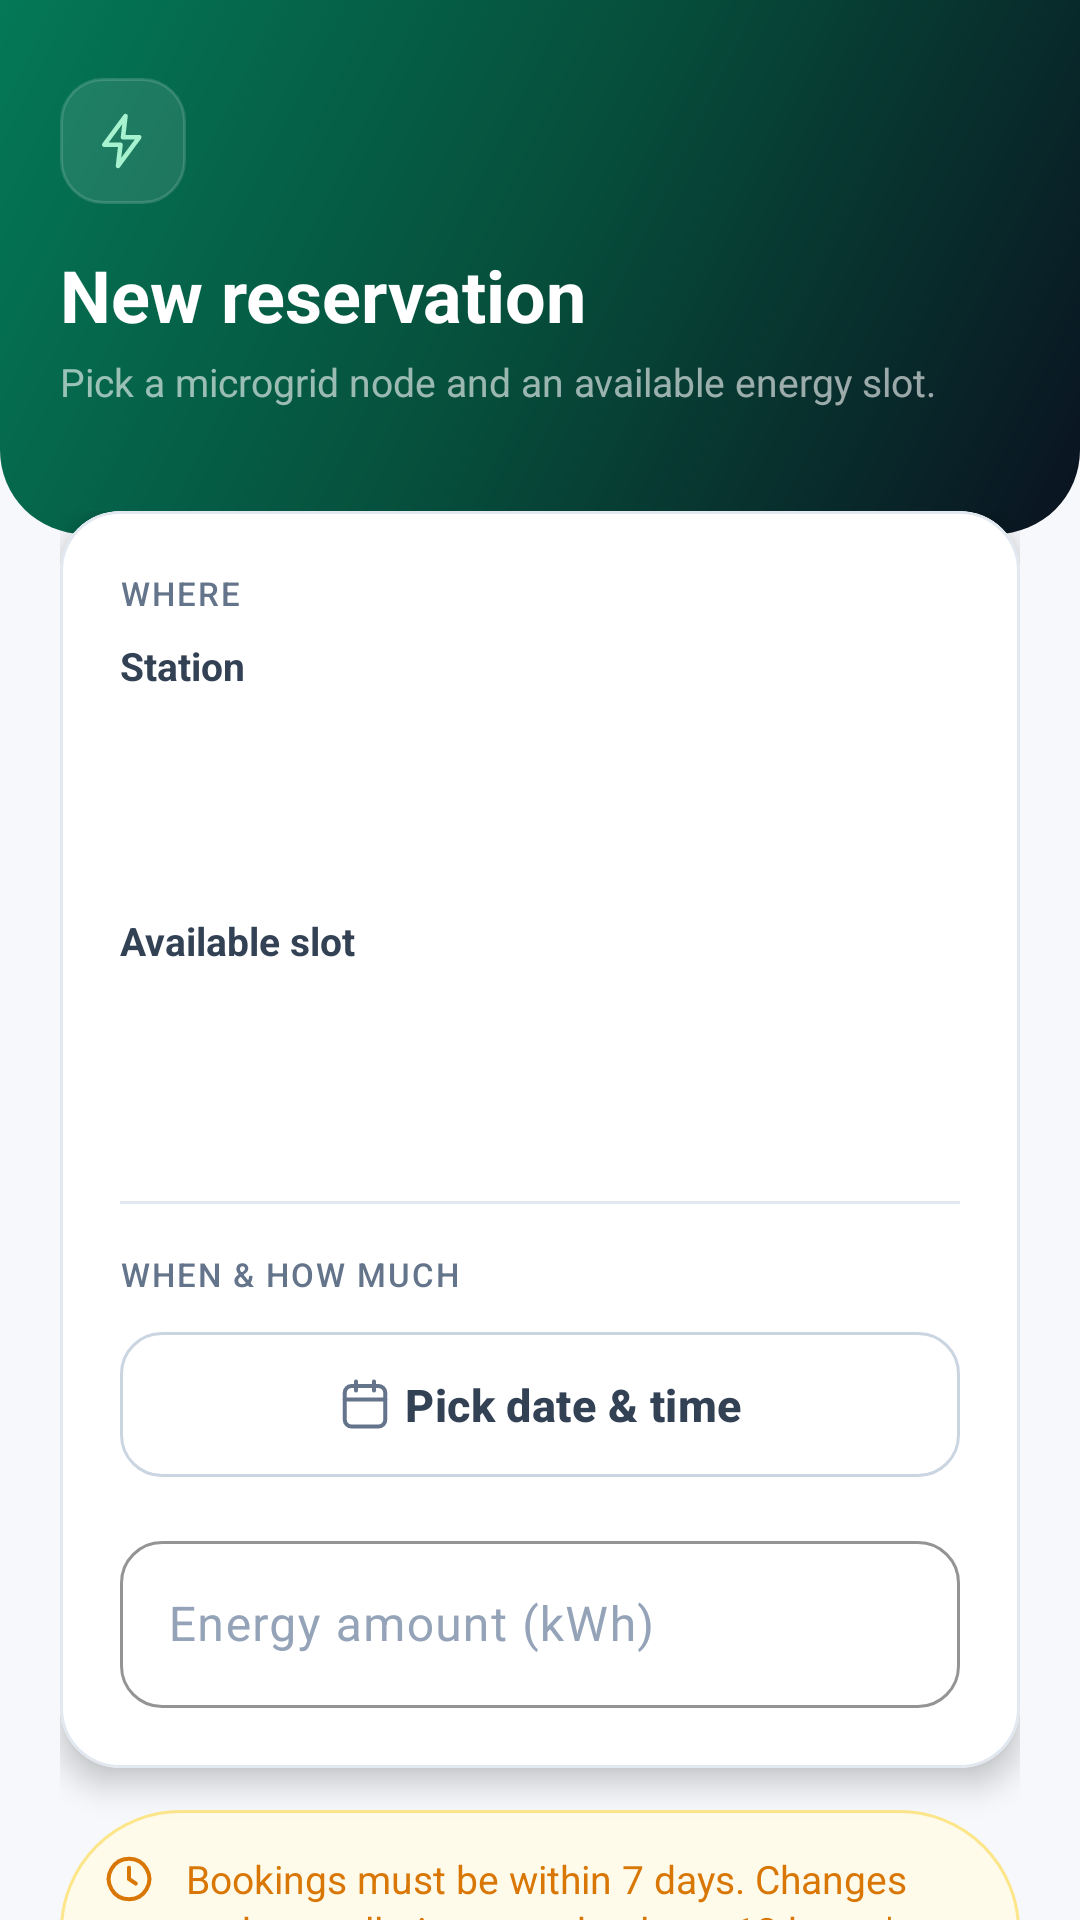

Icon click points for this 1080px×1920px phone screenshot, format (x=x, y=y):
bolt: (x=122, y=140)
clock: (x=129, y=1879)
